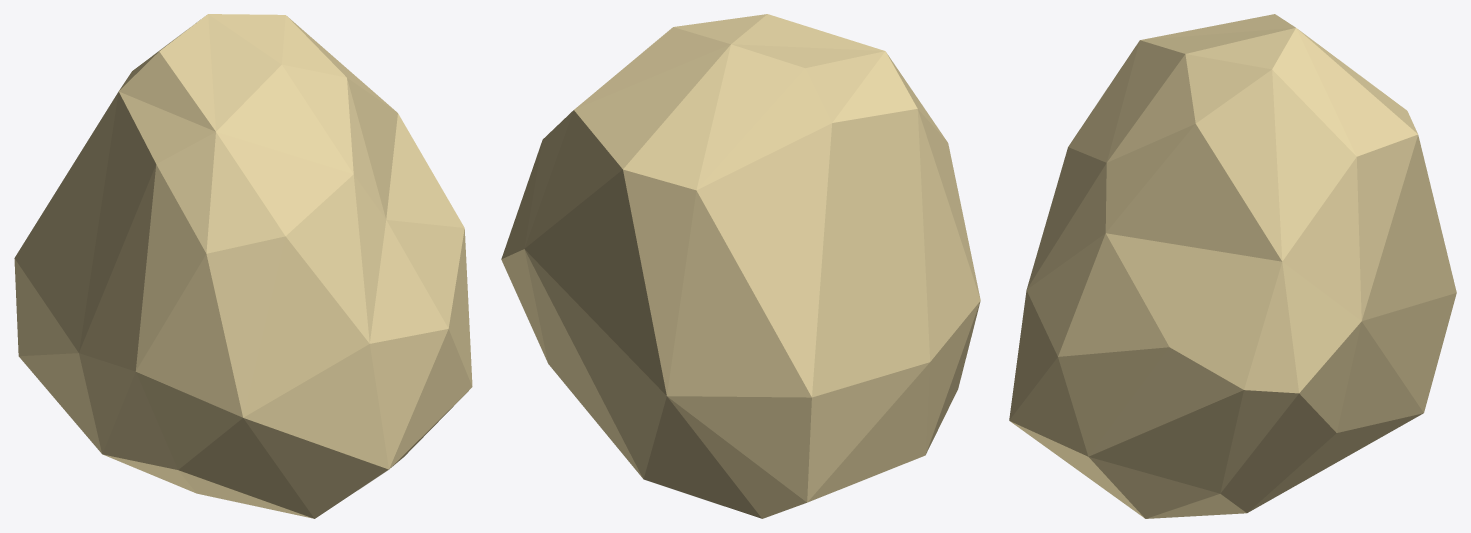
The model's file is Rock (85).fbx.
3 renders of one model, left to right at view 1: azimuth 30°, elevation 25°; view 2: azimuth 150°, elevation 25°; view 3: azimuth 270°, elevation 25°, orthographic. The views are drawn at different scales.
Parts seen in each view (by area): view 1: Asteroid84; view 2: Asteroid84; view 3: Asteroid84.
Boxes of the visible parts, x1,y1,x2,y2 form: Asteroid84: [14, 14, 472, 518]; Asteroid84: [501, 14, 980, 518]; Asteroid84: [1009, 14, 1456, 518].
Size of the model in its own units: 53.77 by 61.43 by 54.11.
